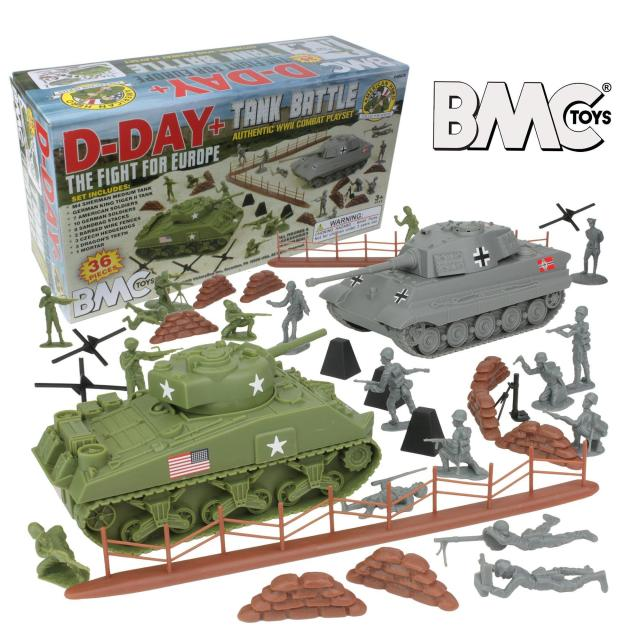Tanks: (52, 338, 376, 531), (326, 214, 572, 330)
